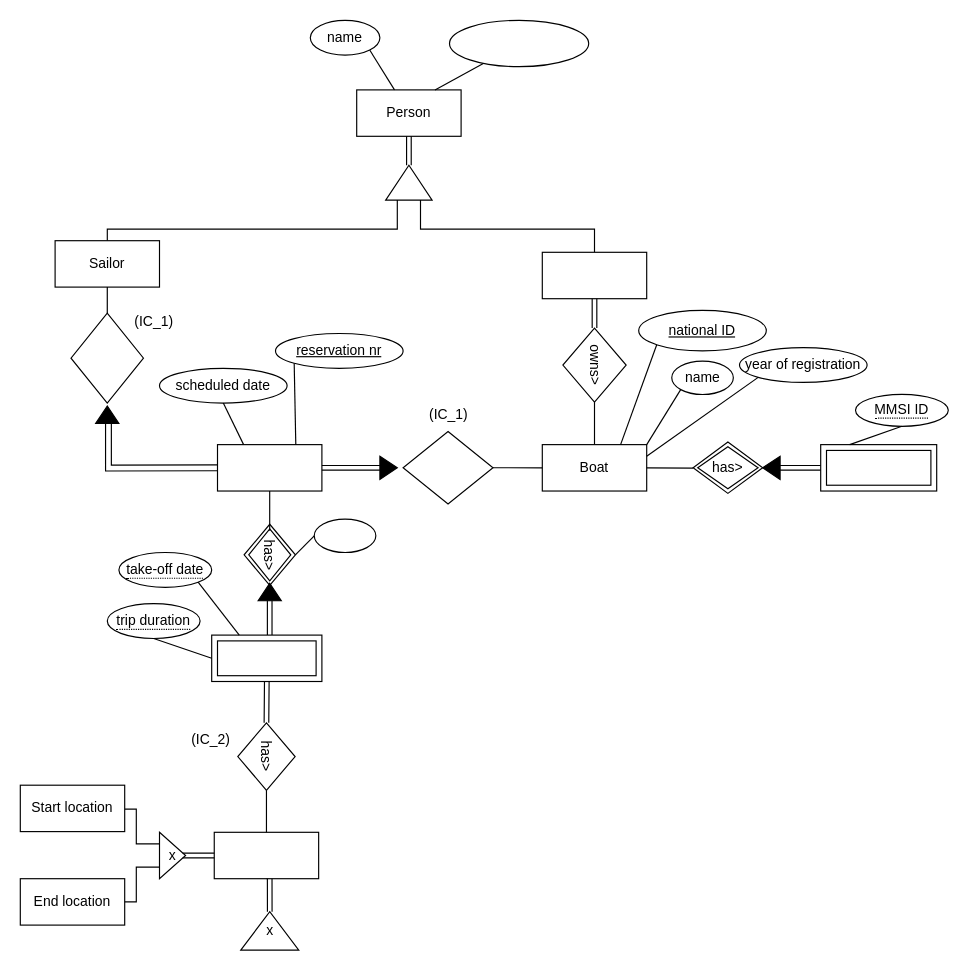
Image size: 969x971. Some labels were removed from this diagram. Here are the shapes that lost their labels. From the top down, the centre of each, then its label:
point (518, 43): national ID card nr
point (594, 275): Owner
point (106, 357): makes_an>
point (269, 467): Reserve
point (447, 467): <has_been
point (878, 467): Fixed VHF Radio
point (344, 535): quantity
point (266, 658): Trip
point (266, 855): Location
